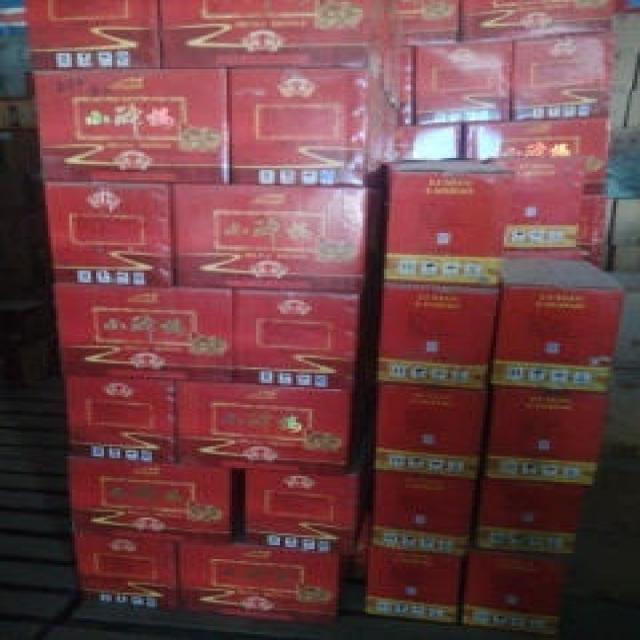box: (32, 69, 229, 184), (173, 184, 368, 292), (491, 257, 627, 391), (53, 282, 235, 381), (227, 69, 373, 188), (384, 160, 515, 286), (176, 381, 352, 474), (160, 0, 384, 67), (69, 456, 229, 543), (179, 539, 339, 626), (376, 280, 501, 391), (232, 288, 363, 391), (45, 182, 173, 286), (485, 387, 611, 484), (467, 115, 608, 192), (376, 385, 488, 478), (64, 373, 173, 464), (376, 47, 461, 162), (245, 468, 360, 553), (27, 0, 160, 69), (461, 549, 565, 636), (75, 527, 181, 612), (371, 472, 477, 555), (512, 36, 616, 120), (491, 156, 581, 249), (477, 478, 584, 553), (416, 43, 512, 124), (365, 547, 461, 624), (459, 0, 613, 45), (387, 0, 461, 47), (579, 194, 608, 245), (616, 200, 640, 247), (613, 247, 640, 273)
